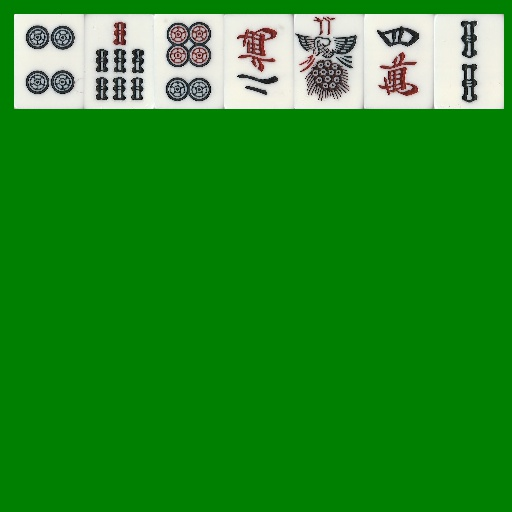1s: (294, 14, 364, 109)
2m: (224, 14, 294, 109)
2s: (434, 14, 504, 109)
4m: (364, 14, 434, 109)
4p: (14, 14, 84, 109)
6p: (154, 14, 224, 109)
7s: (84, 14, 154, 109)
